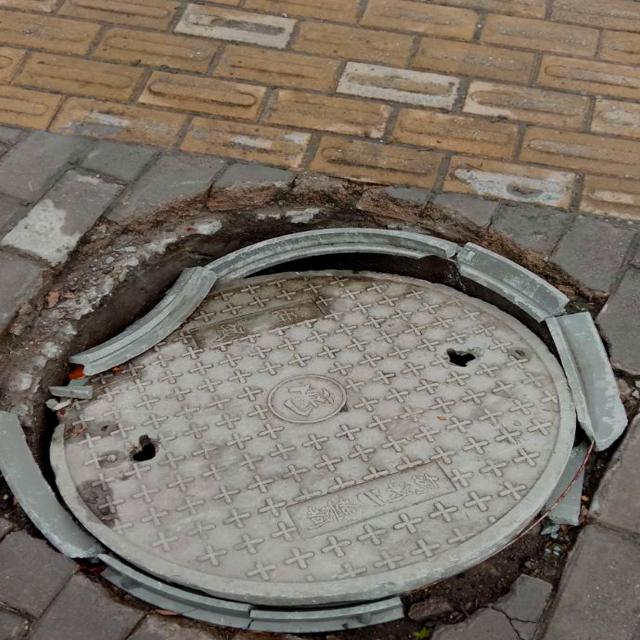circle: (0, 182, 640, 640)
